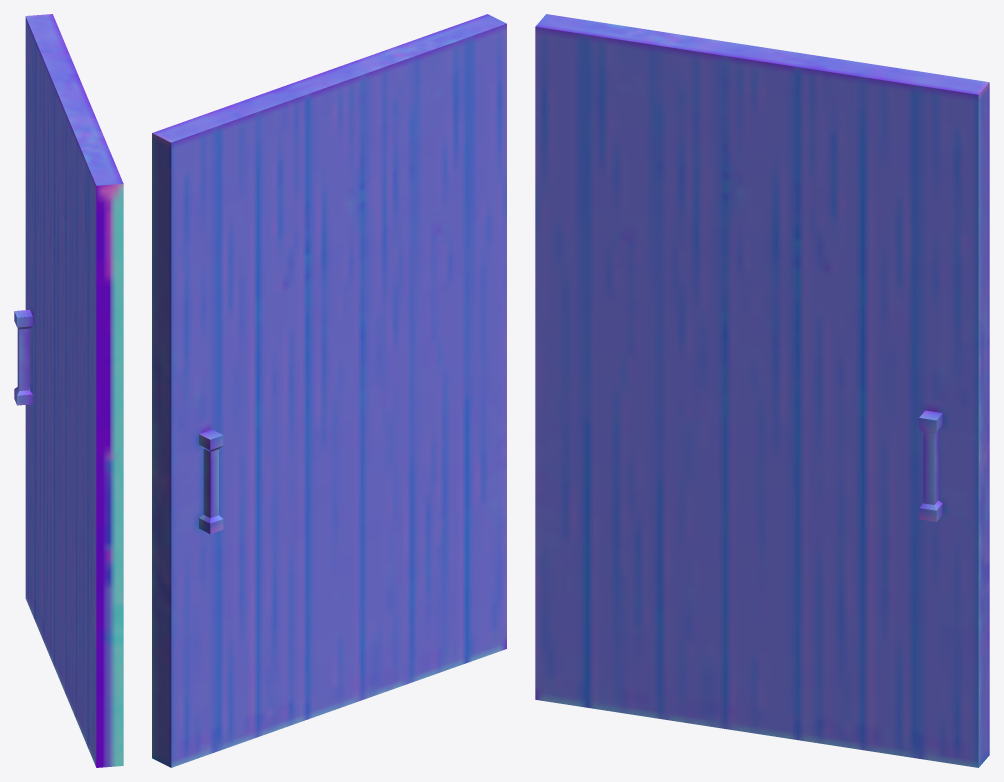
The model's file is House_FileneA_Door_Combat.fbx.
The picture shows the model from 3 angles, left to right: view 1: azimuth 30°, elevation 25°; view 2: azimuth 150°, elevation 25°; view 3: azimuth 270°, elevation 25°; orthographic projection. The views are drawn at different scales.
Parts seen in each view (by area): view 1: House_FileneA_Door_Combat; view 2: House_FileneA_Door_Combat; view 3: House_FileneA_Door_Combat.
Part boxes in pixels (<box>): House_FileneA_Door_Combat: <box>14,14,123,767</box>; House_FileneA_Door_Combat: <box>152,14,506,767</box>; House_FileneA_Door_Combat: <box>535,14,989,767</box>.
Size of the model in its own units: 49.8 by 189 by 116.
1 material, 1 textured.
